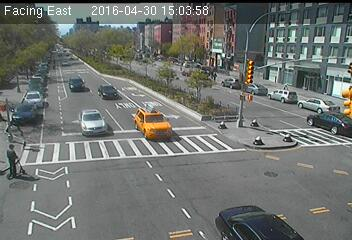neg: (107, 121, 135, 158), (90, 44, 116, 78), (302, 98, 327, 131), (195, 35, 220, 68), (51, 50, 75, 82), (288, 35, 311, 66), (161, 161, 183, 189), (241, 186, 262, 215), (136, 40, 157, 68), (5, 36, 25, 64), (75, 166, 94, 191), (247, 61, 265, 85), (251, 132, 269, 155), (196, 98, 212, 120), (26, 95, 42, 116)
pos: (7, 137, 38, 178)
